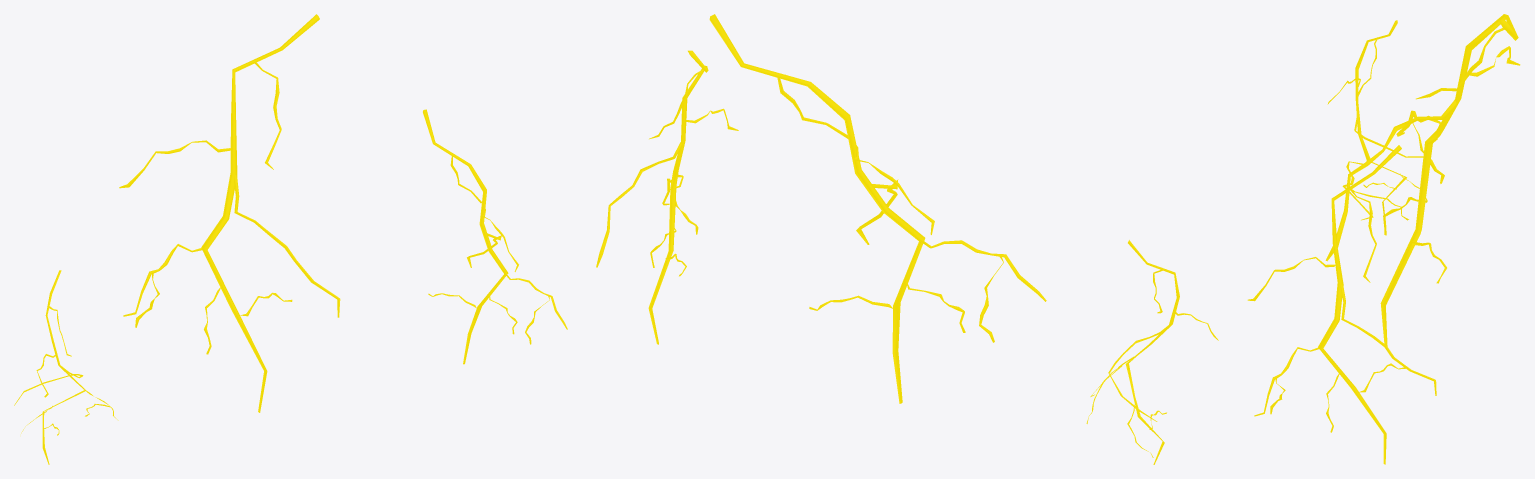
Rendered from bolt.glb.
3 views of the same model, side by side, from view 1: azimuth 30°, elevation 25°; view 2: azimuth 150°, elevation 25°; view 3: azimuth 270°, elevation 25° (orthographic). The views are drawn at different scales.
Visible parts, largest first — view 1: th bolt, th bolt.001, th bolt.002; view 2: th bolt, th bolt.001, th bolt.002; view 3: th bolt, th bolt.001, th bolt.002.
Boxes of the visible parts, <box> form: th bolt: <box>119,14,340,412</box>; th bolt.001: <box>423,109,567,364</box>; th bolt.002: <box>14,270,118,464</box>; th bolt: <box>709,14,1046,403</box>; th bolt.001: <box>596,50,738,344</box>; th bolt.002: <box>1086,240,1218,464</box>; th bolt: <box>1325,14,1520,346</box>; th bolt.001: <box>1247,145,1436,464</box>; th bolt.002: <box>1327,20,1423,220</box>.
Size of the model in its own units: 9.23 by 6.01 by 3.81.
